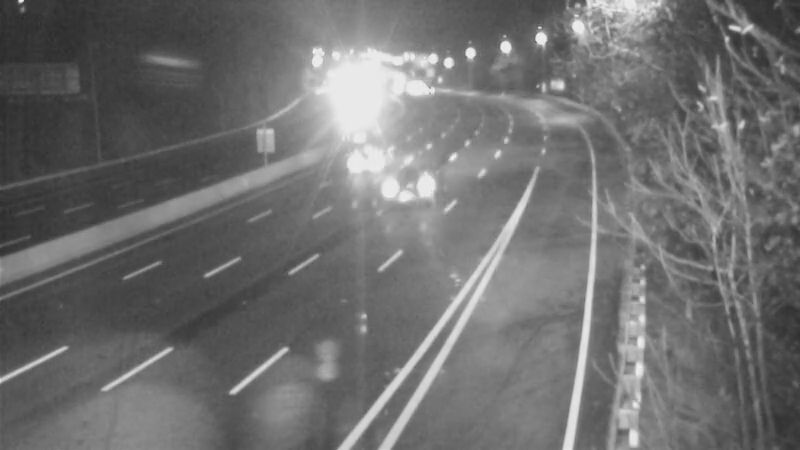vehicle: (325, 115, 405, 195), (366, 152, 446, 232), (402, 66, 452, 116)
